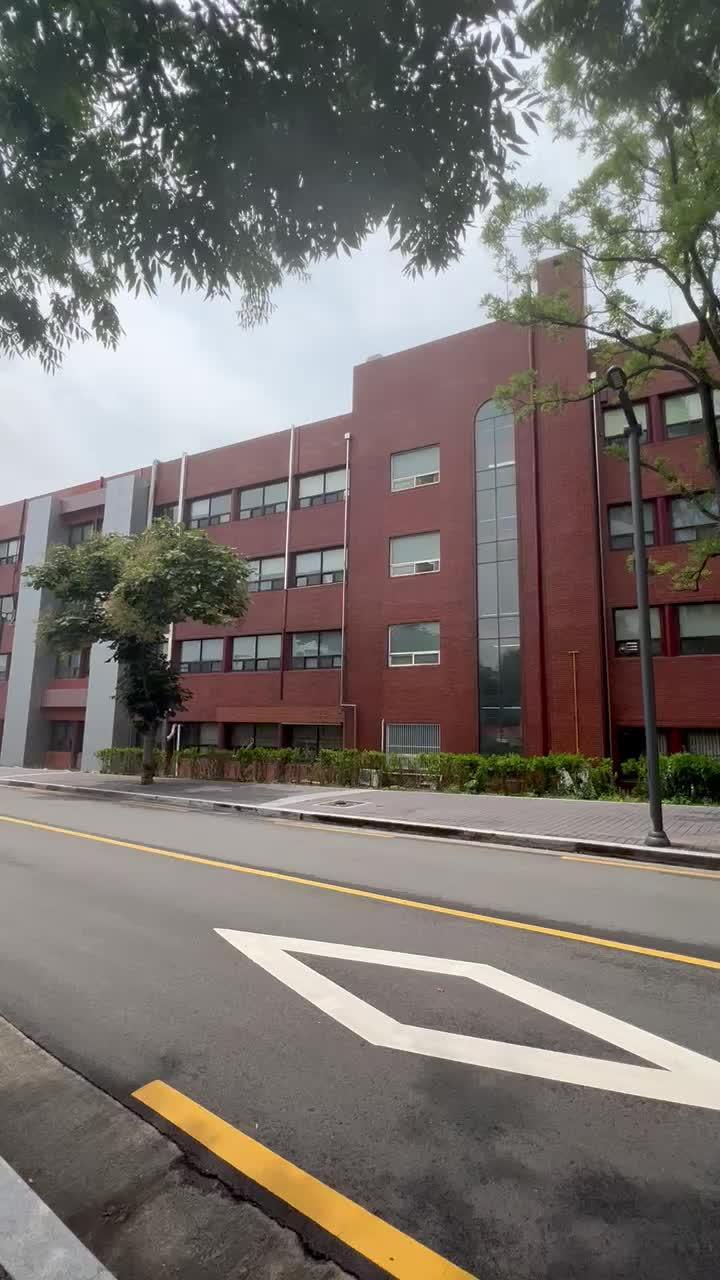building: (262, 344, 592, 766)
